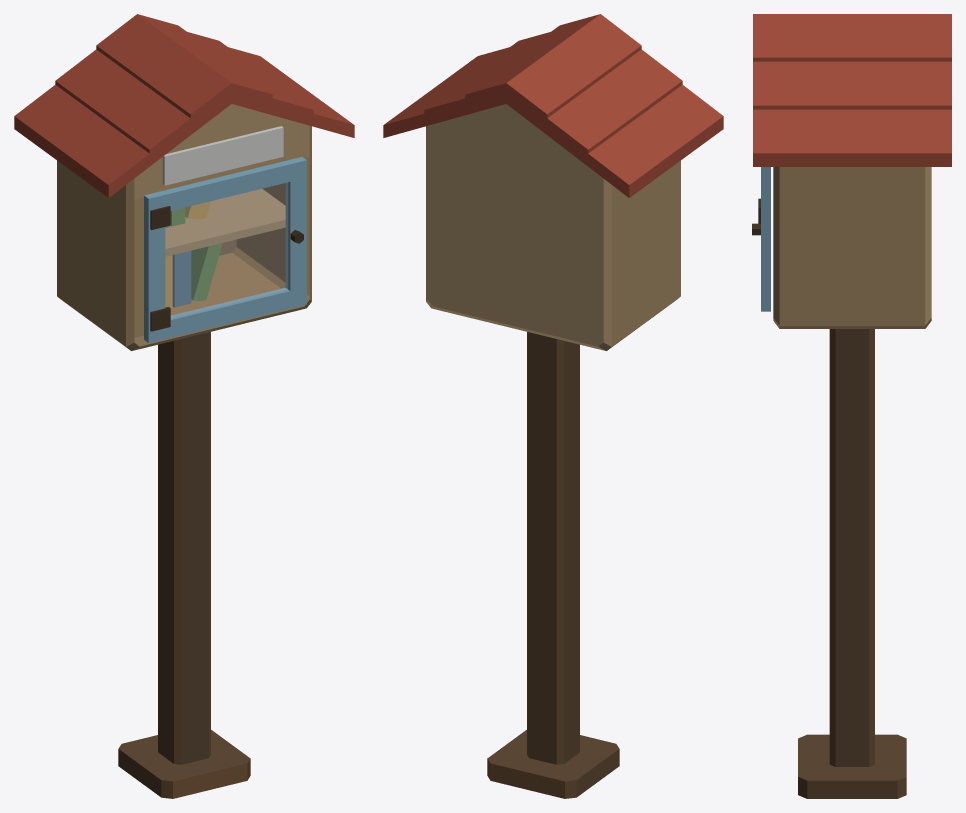
Rendered from little-free-library-post-755dd2.glb.
The picture shows the model from 3 angles, left to right: view 1: azimuth 30°, elevation 25°; view 2: azimuth 150°, elevation 25°; view 3: azimuth 270°, elevation 25°; orthographic projection. The views are drawn at different scales.
Visible parts, largest first — view 1: library-shell, door-pane, door-leaf; view 2: library-shell; view 3: library-shell, door-leaf.
Boxes of the visible parts, x1,y1,x2,y2 form: library-shell: (14,14,354,798); door-pane: (165,183,287,317); door-leaf: (144,157,306,342); library-shell: (383,14,723,798); library-shell: (753,14,951,798); door-leaf: (752,167,770,311).
Size of the model in its own units: 0.662 by 1.86 by 0.442.
